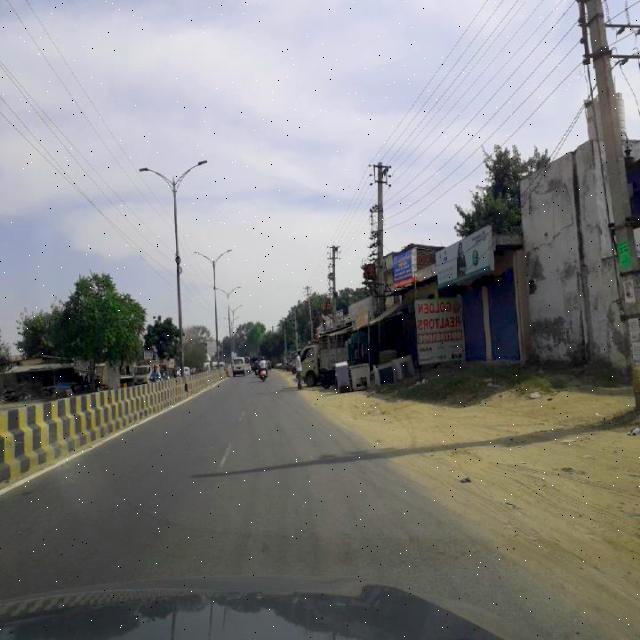D44: (216, 407, 247, 476)
